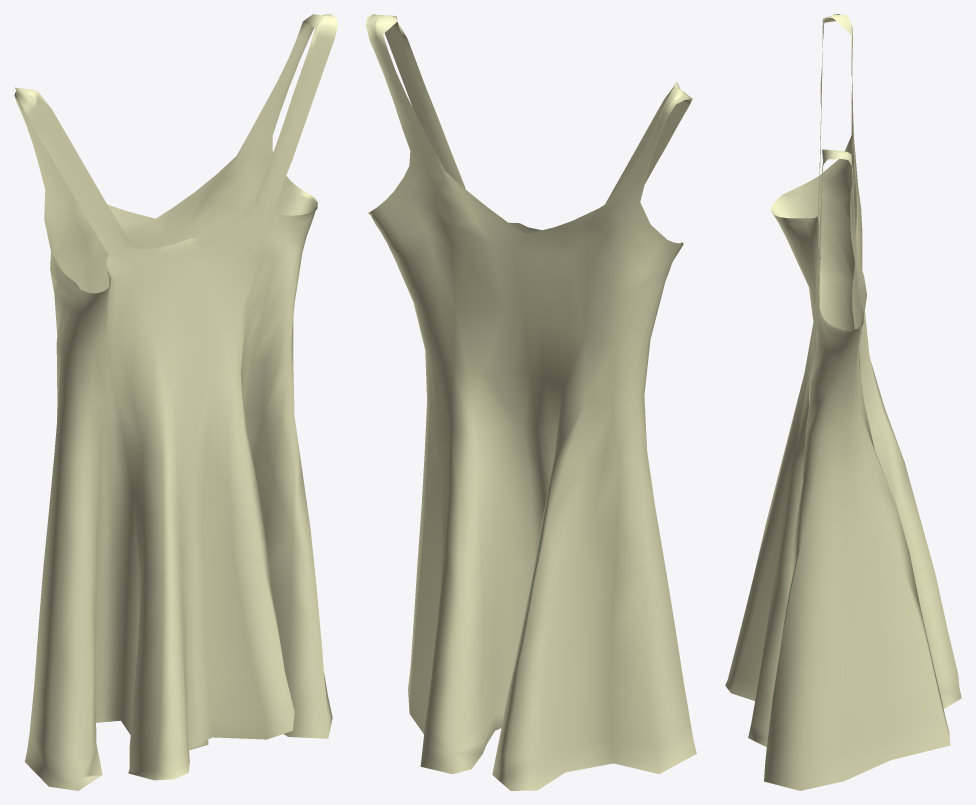
File: Dress08.fbx
3 views of the same model, side by side, from view 1: azimuth 30°, elevation 25°; view 2: azimuth 150°, elevation 25°; view 3: azimuth 270°, elevation 25° (orthographic). The views are drawn at different scales.
Visible parts, largest first — view 1: Dress08; view 2: Dress08; view 3: Dress08.
Boxes of the visible parts, x1,y1,x2,y2 form: Dress08: (14,14,337,790); Dress08: (366,14,696,790); Dress08: (725,14,961,790).
Size of the model in its own units: 39.37 by 81.55 by 27.08.
